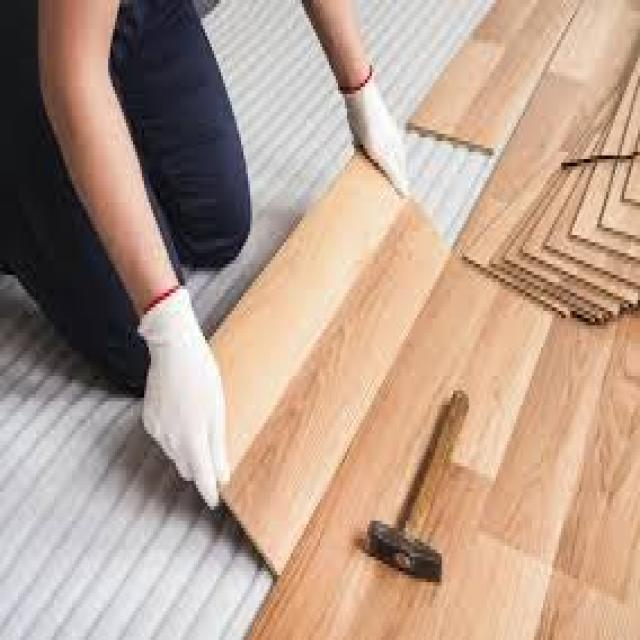hammer: (358, 382, 471, 588)
